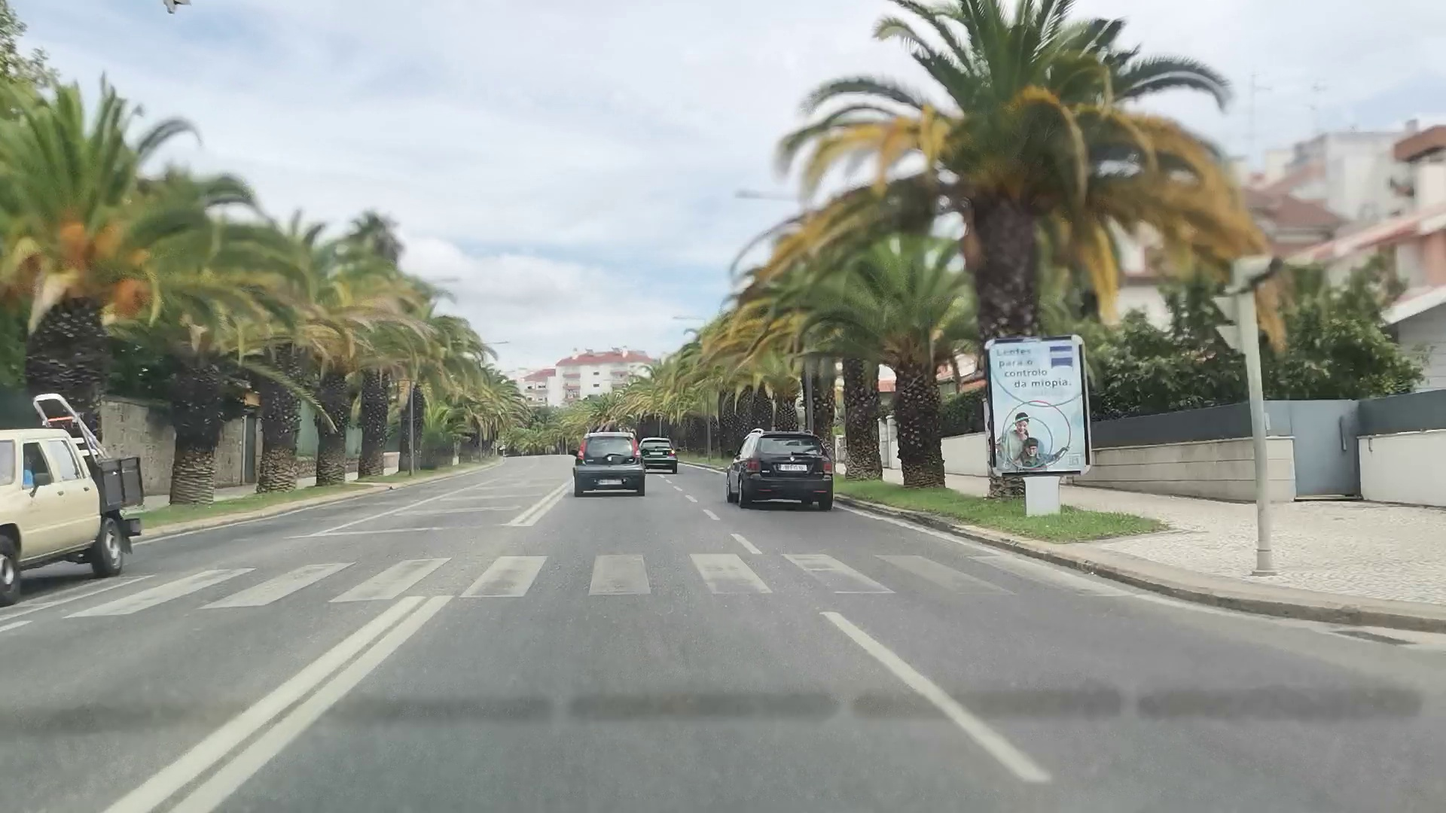Stairs: (34, 551, 1130, 616)
